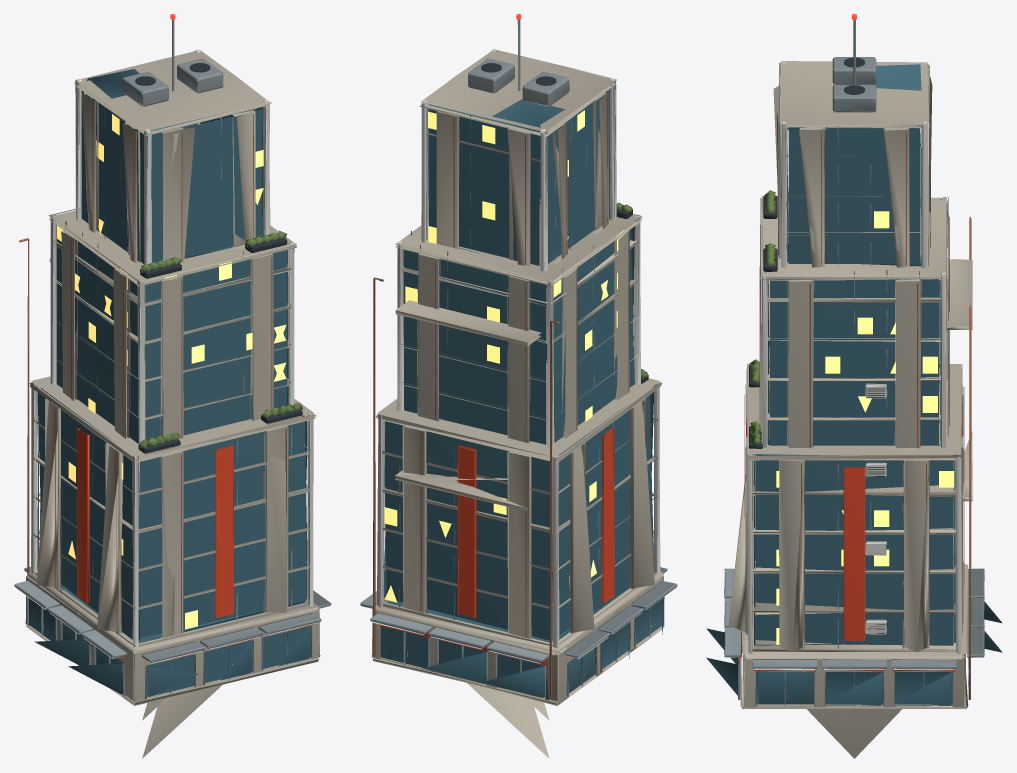
Rendered from tower-1-lod.glb.
3 views of the same model, side by side, from view 1: azimuth 30°, elevation 25°; view 2: azimuth 150°, elevation 25°; view 3: azimuth 270°, elevation 25° (orthographic). The views are drawn at different scales.
Visible parts, largest first — view 1: NC sapphire glazing.001, NC mineral concrete.001, NC ceramic ivory.001, NC brushed titanium.001, NC vermilion, NC oxidized copper.001, NC amber.001, NC graphite.001, NC foliage.001; view 2: NC sapphire glazing.001, NC mineral concrete.001, NC ceramic ivory.001, NC brushed titanium.001, NC vermilion, NC oxidized copper.001, NC amber.001; view 3: NC mineral concrete.001, NC sapphire glazing.001, NC ceramic ivory.001, NC brushed titanium.001, NC vermilion, NC oxidized copper.001, NC amber.001, NC graphite.001, NC foliage.001.
Boxes of the visible parts, x1=… form: NC sapphire glazing.001: x1=29, y1=69, x2=310, y2=698; NC mineral concrete.001: x1=25, y1=50, x2=320, y2=758; NC ceramic ivory.001: x1=16, y1=49, x2=318, y2=664; NC brushed titanium.001: x1=14, y1=19, x2=331, y2=699; NC vermilion: x1=77, y1=428, x2=312, y2=665; NC oxidized copper.001: x1=19, y1=101, x2=286, y2=633; NC amber.001: x1=57, y1=114, x2=286, y2=629; NC graphite.001: x1=135, y1=63, x2=302, y2=454; NC foliage.001: x1=139, y1=231, x2=302, y2=448; NC sapphire glazing.001: x1=380, y1=89, x2=662, y2=700; NC mineral concrete.001: x1=371, y1=49, x2=663, y2=758; NC ceramic ivory.001: x1=372, y1=49, x2=675, y2=675; NC brushed titanium.001: x1=360, y1=19, x2=677, y2=699; NC vermilion: x1=379, y1=428, x2=614, y2=665; NC oxidized copper.001: x1=373, y1=95, x2=645, y2=698; NC amber.001: x1=384, y1=110, x2=624, y2=602; NC mineral concrete.001: x1=728, y1=61, x2=972, y2=758; NC sapphire glazing.001: x1=706, y1=64, x2=1002, y2=705; NC ceramic ivory.001: x1=725, y1=62, x2=961, y2=697; NC brushed titanium.001: x1=724, y1=20, x2=984, y2=706; NC vermilion: x1=738, y1=418, x2=969, y2=672; NC oxidized copper.001: x1=744, y1=114, x2=971, y2=699; NC amber.001: x1=776, y1=211, x2=954, y2=644; NC graphite.001: x1=749, y1=57, x2=884, y2=633; NC foliage.001: x1=749, y1=190, x2=775, y2=445.
Bounding box in the file's own units: 27.4 × 77.33 × 27.4.
